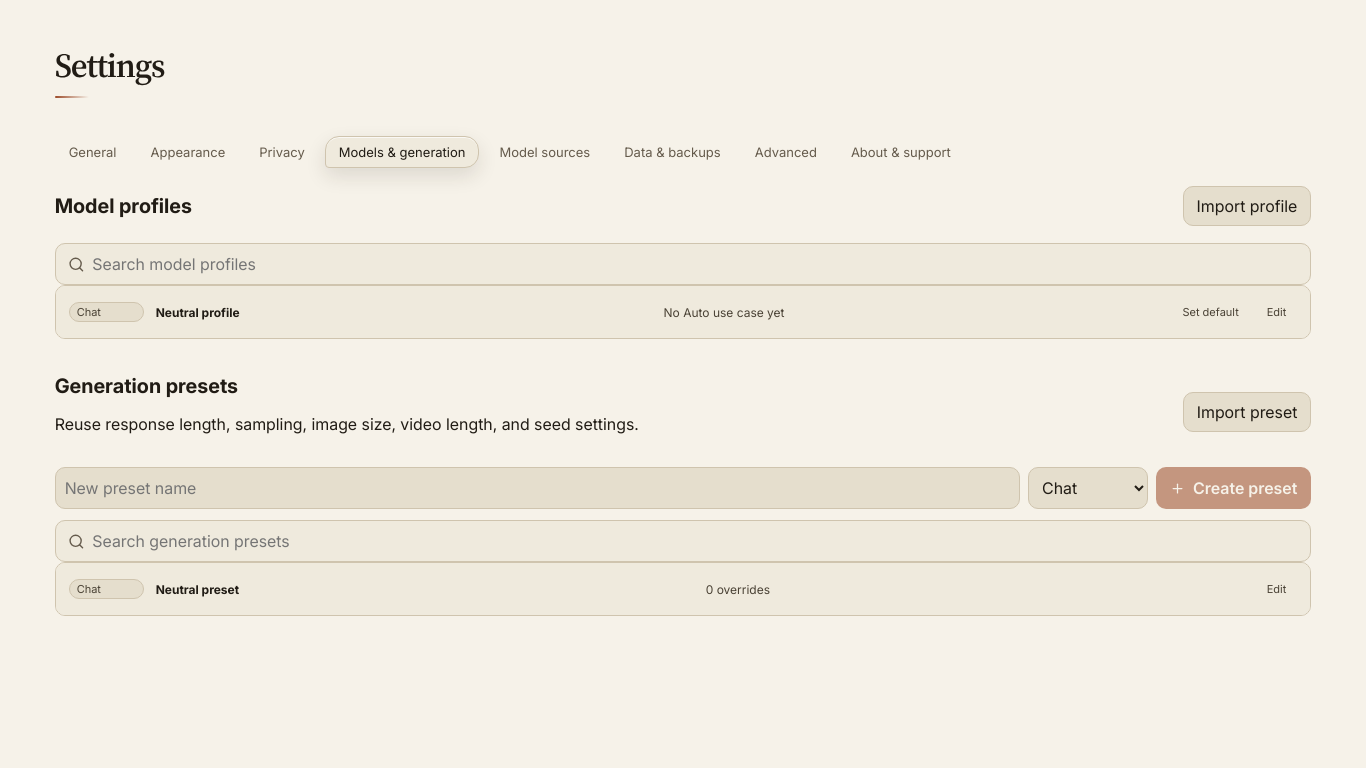
Test case: refreshes paged profile defaults after changing the default
Click the button with aria-label "Set Neutral profile as default chat model".
click(1211, 312)  # box [1171, 297, 1250, 327]
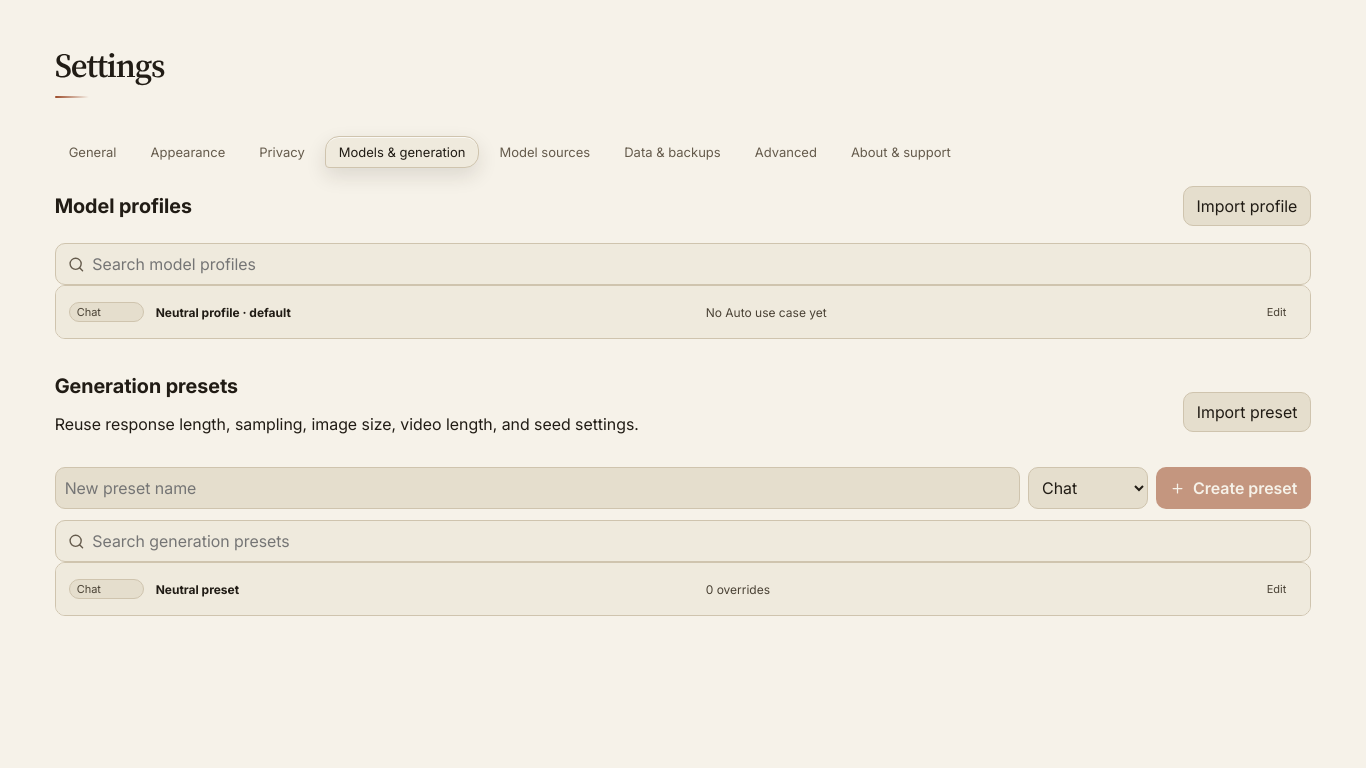
Expected: the text "Neutral profile · default" is shown, [156, 304, 291, 320]
